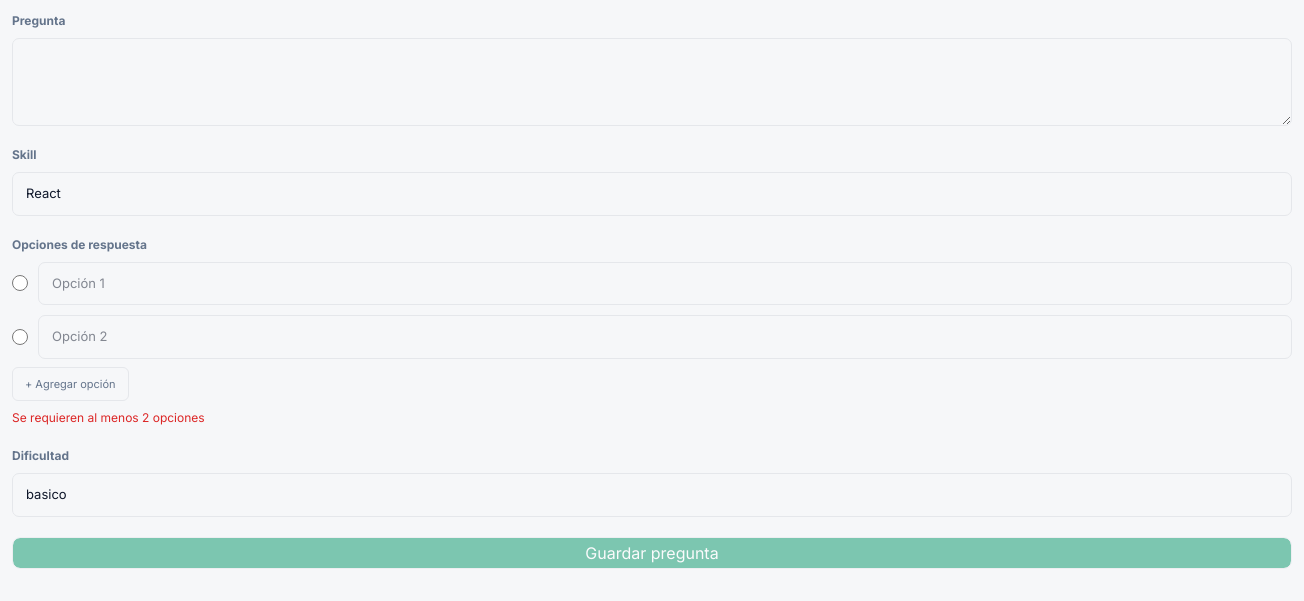
Test: ExamQuestionForm › blocks submit with "Selecciona la respuesta correcta" when nothing is marked
Expected: the dropdown labelled "Skill" is enabled, [12,172,1292,216]
Step 1. Type "Pregunta suficientemente larga" into the text box labelled "Pregunta" → (652, 82), box [12,38,1292,126]
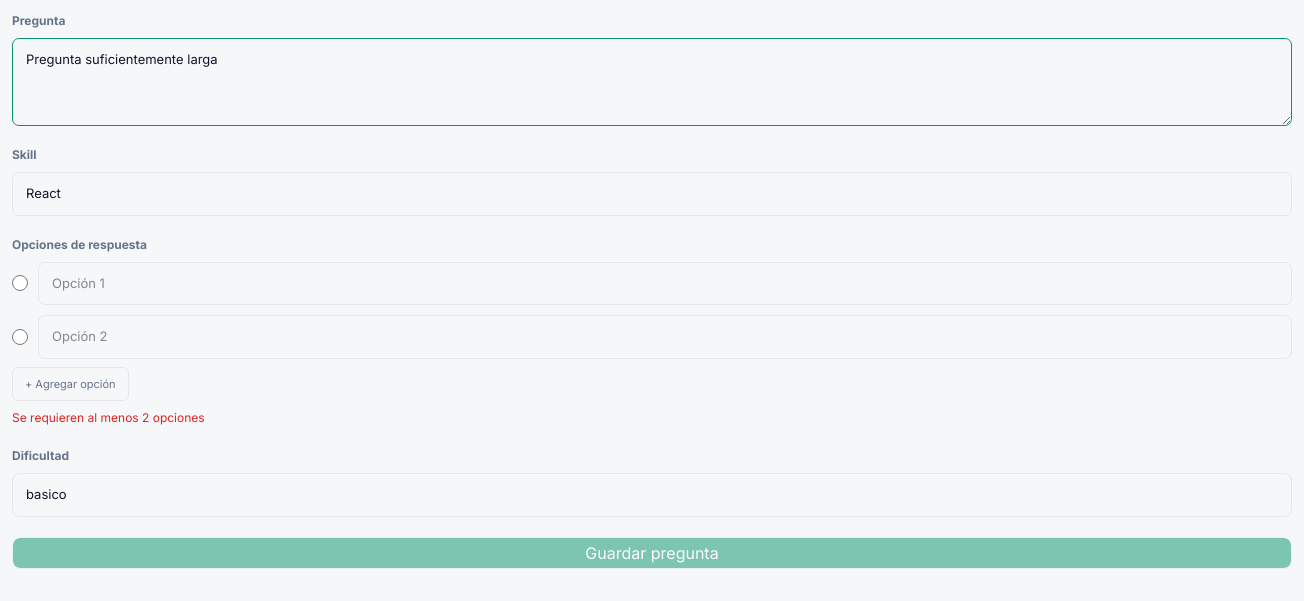
Step 2. Type "useEffect" into the field labelled "Opción 1" → (665, 283), box [38,262,1292,305]
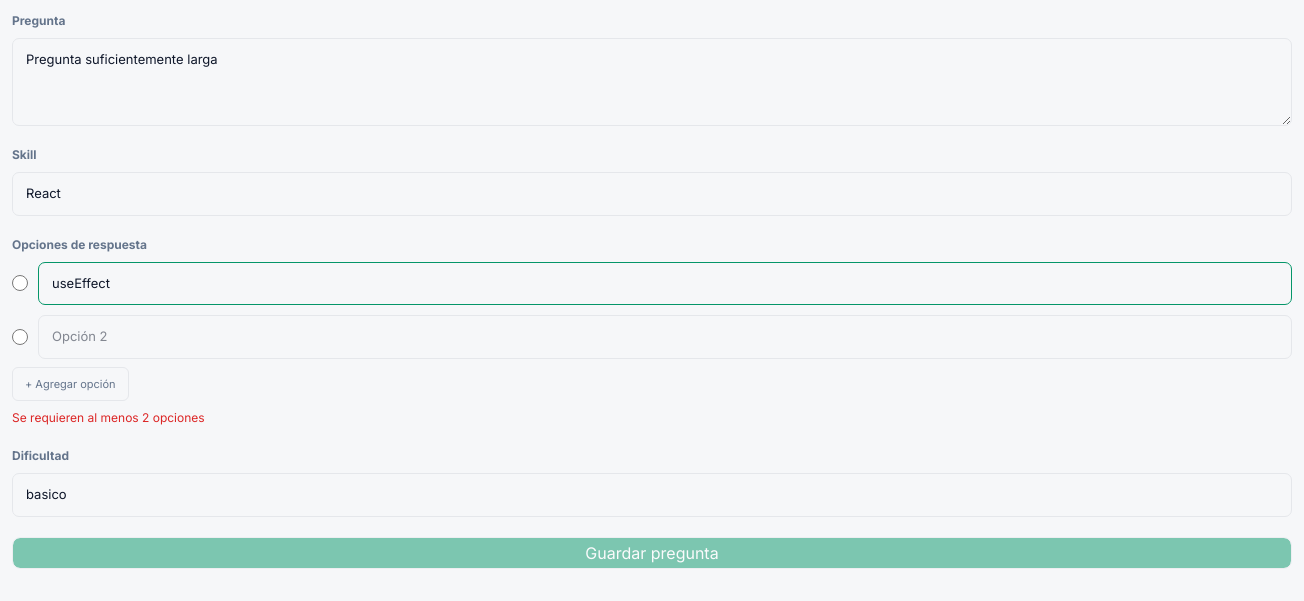
Step 3. Type "useState" into the field labelled "Opción 2" → (665, 337), box [38,315,1292,358]
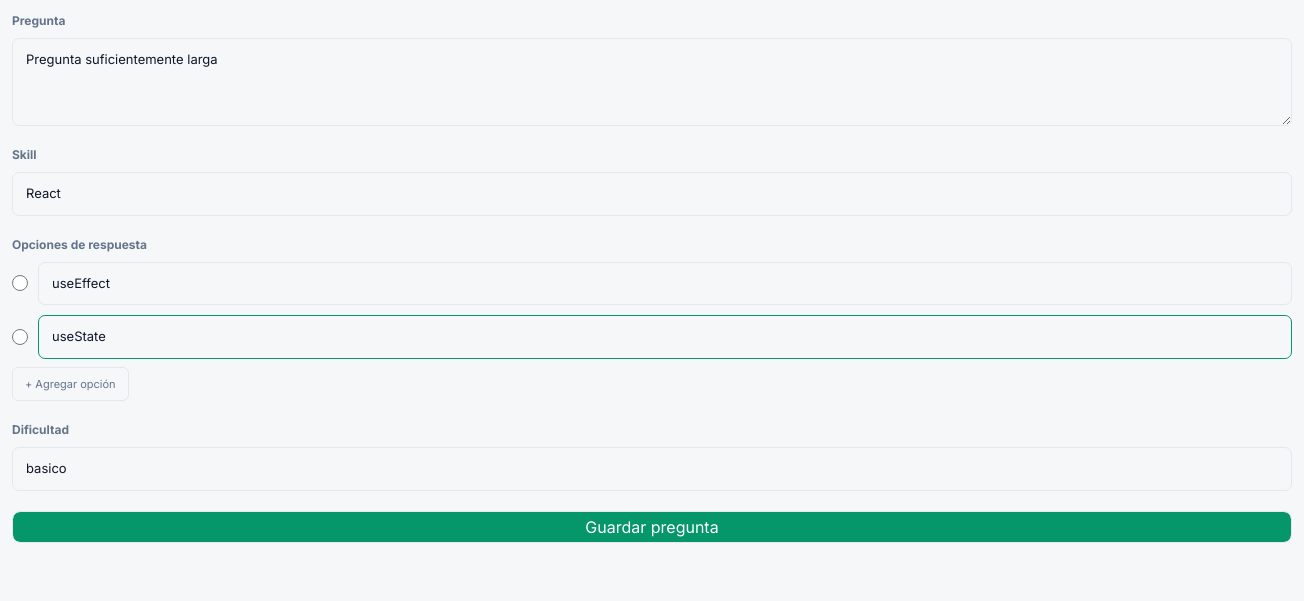
Step 4. Click the button "Guardar pregunta" → (652, 526), box [12,510,1292,542]
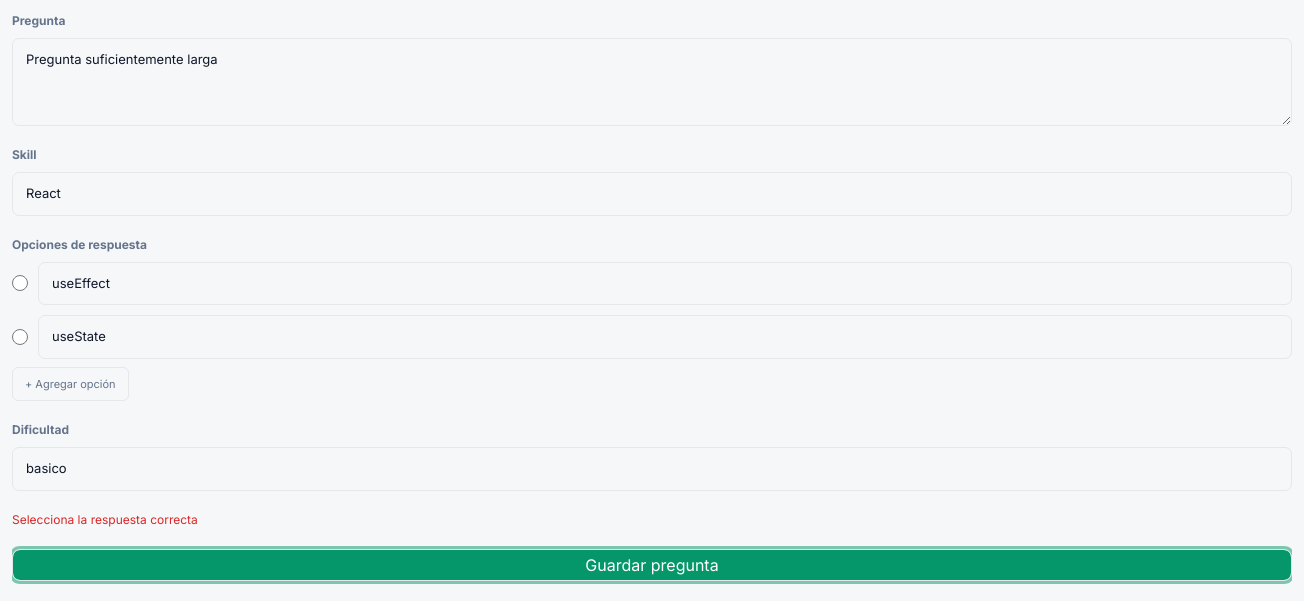
Result: the text "Selecciona la respuesta correcta" is shown at [12,512,198,526]
